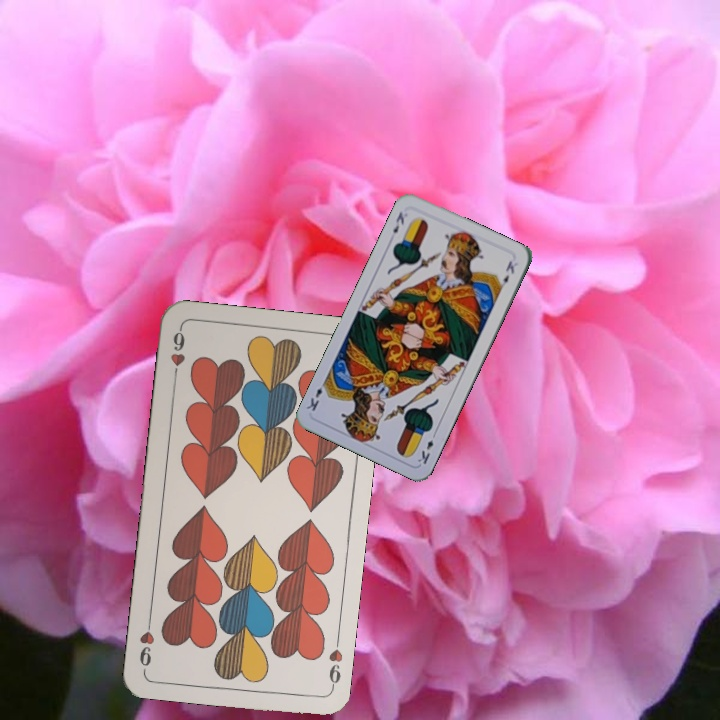EK: (413, 428, 439, 467), (389, 208, 407, 236)
H9: (324, 633, 346, 692), (167, 324, 188, 384)
